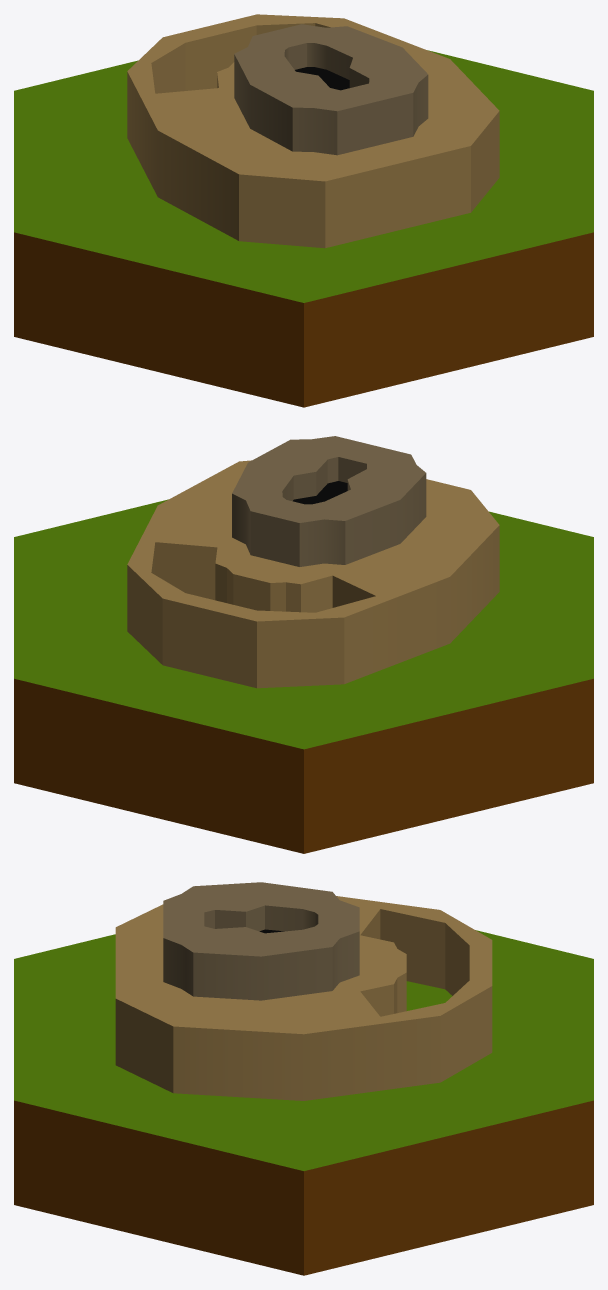
Rendered from blockade.fbx.
3 views of the same model, one above another, from view 1: azimuth 30°, elevation 25°; view 2: azimuth 150°, elevation 25°; view 3: azimuth 270°, elevation 25° (orthographic).
Visible parts, largest first — view 1: pasted__pCylinder96; view 2: pasted__pCylinder96; view 3: pasted__pCylinder96.
Part boxes in pixels (x1,y1,x2,y2): pasted__pCylinder96: (14,14,593,407); pasted__pCylinder96: (14,436,593,853); pasted__pCylinder96: (14,882,593,1275).
Size of the model in its own units: 2 by 0.7097 by 1.73.
